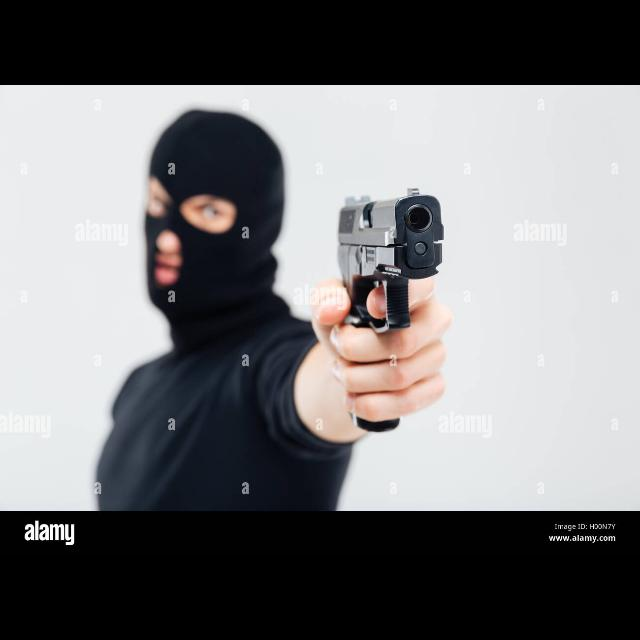handgun: (329, 180, 451, 338)
